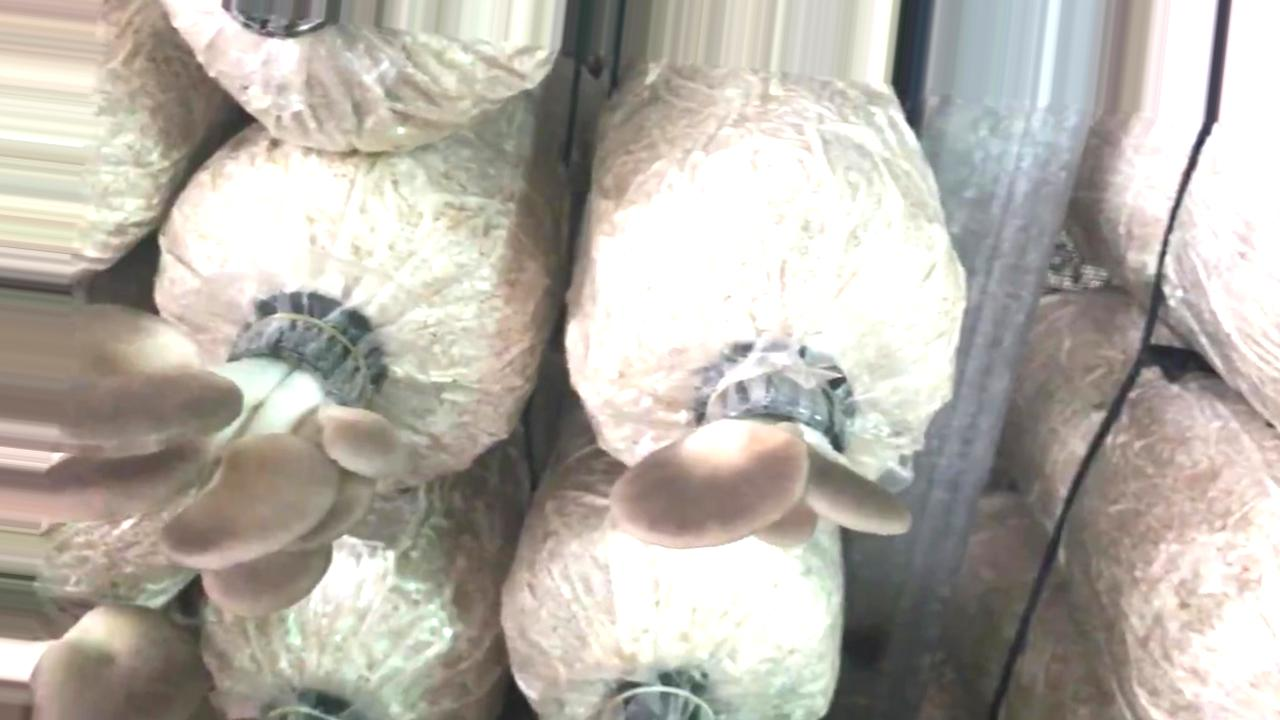nam: (1, 288, 406, 612), (611, 356, 914, 553)
